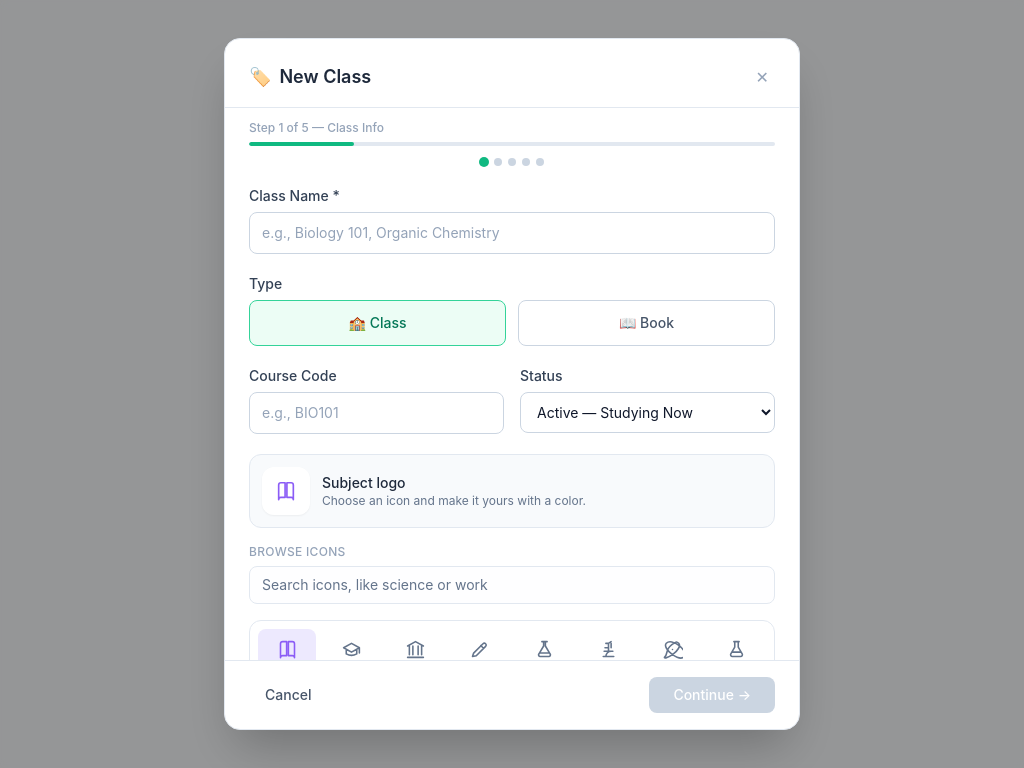
Test: ClassCreationWizard — Linked Folder Integration › renders "Link Local Folder" button in the Materials step
This screenshot has width=1024, height=768.
Type "Biology 101" into the field with placeholder "e.g., Biology 101, Organic Chemistry" at [512, 233], box [249,212,775,254]
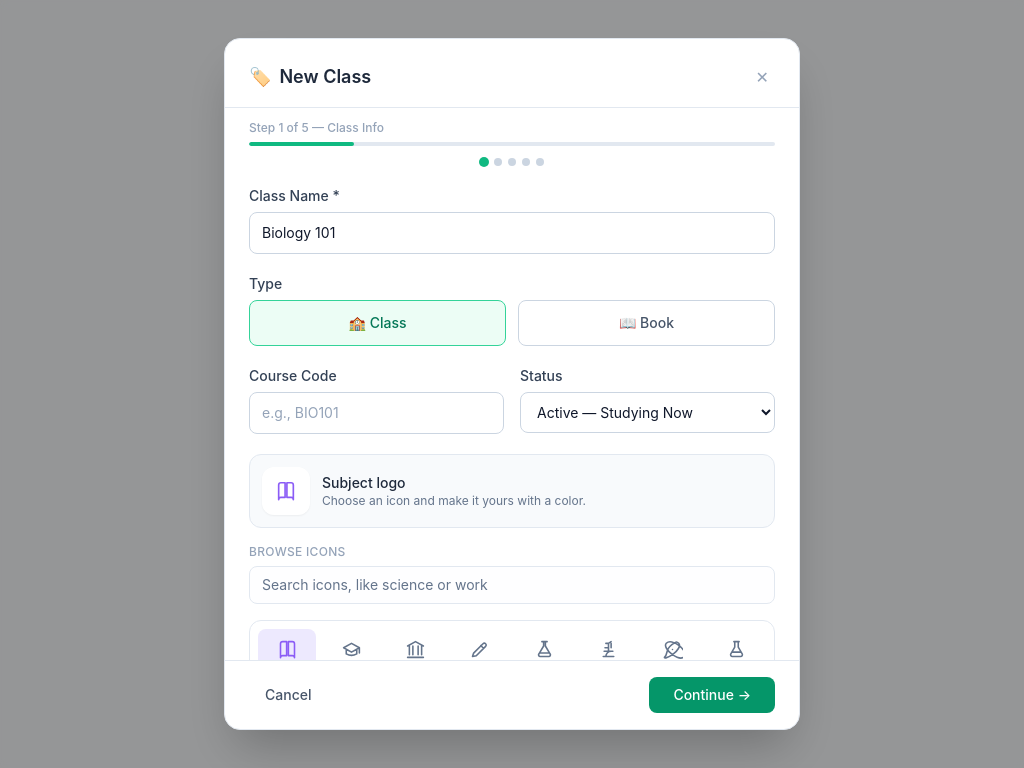
Click the button "Continue →" at [712, 695], box [649,677,775,713]
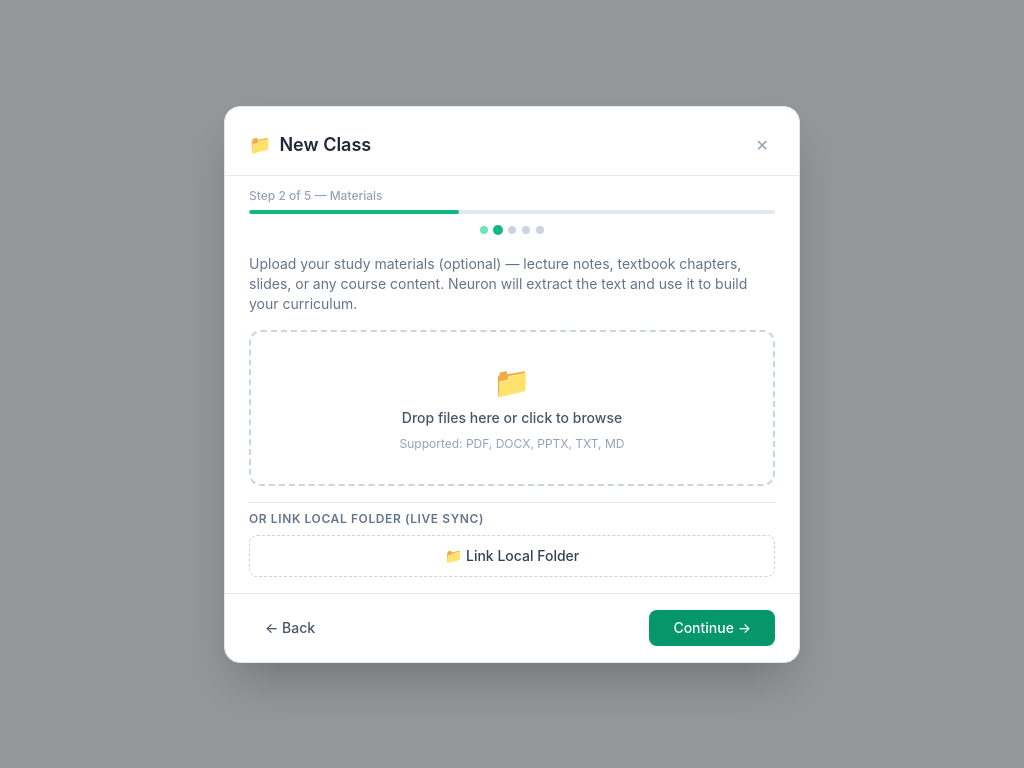
Expected: the text "Upload your study materials" is shown, [249,254,747,312]
Expected: the button "📁 Link Local Folder" is shown, [249,534,775,576]
